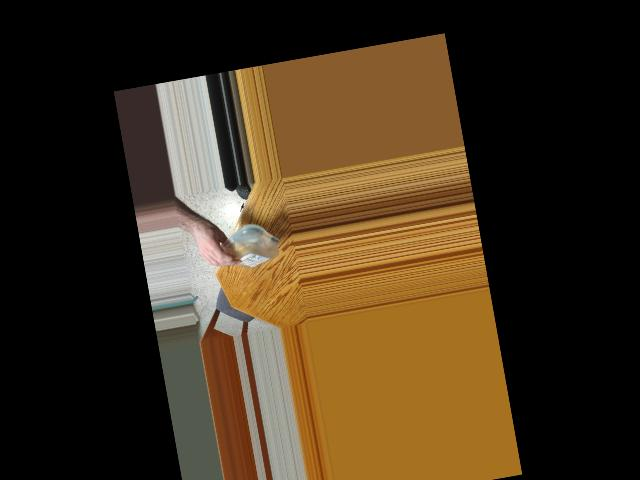cheese: (210, 225, 278, 272)
